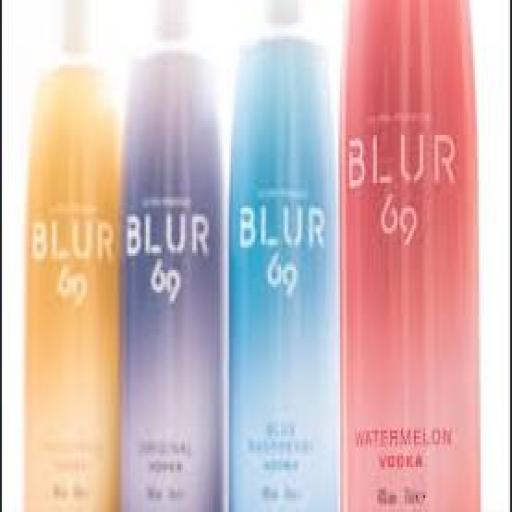bottle: (231, 0, 342, 509)
